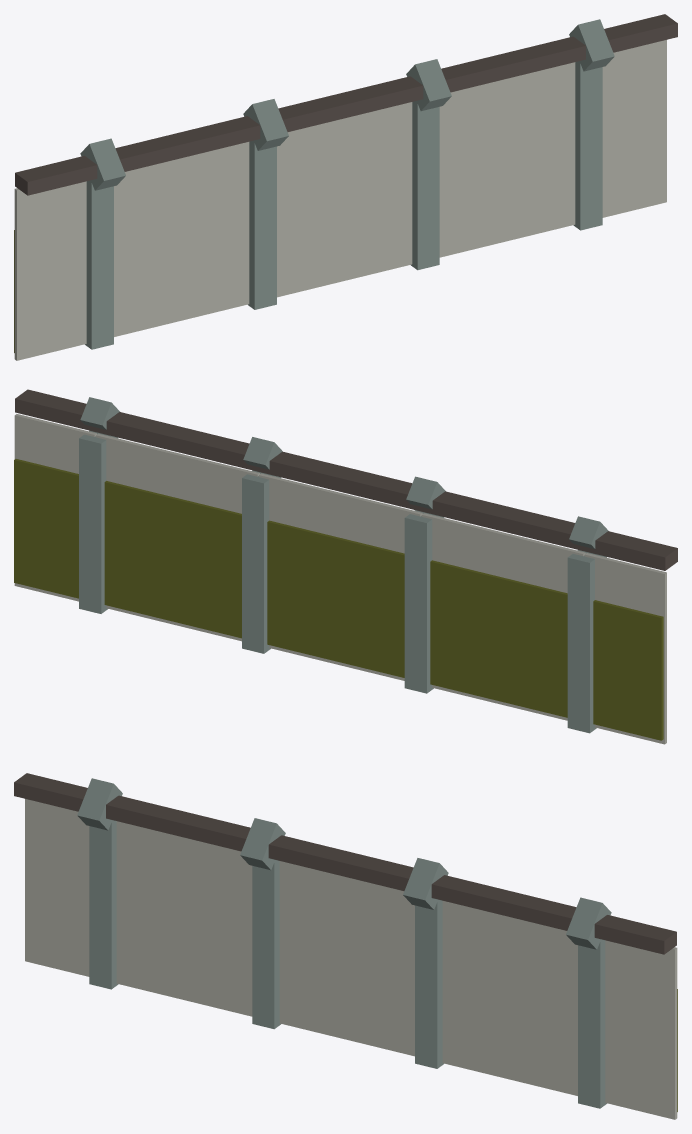
The model's file is SM_VallaBase_v3_LOD1.fbx.
The picture shows the model from 3 angles, top to bottom: view 1: azimuth 30°, elevation 25°; view 2: azimuth 150°, elevation 25°; view 3: azimuth 330°, elevation 25°; orthographic projection.
Visible parts, largest first — view 1: SM_valla_base_v3_LOD1; view 2: SM_valla_base_v3_LOD1; view 3: SM_valla_base_v3_LOD1.
Part boxes in pixels (left/top/right/bottom): SM_valla_base_v3_LOD1: left=14, top=14, right=677, bottom=360; SM_valla_base_v3_LOD1: left=14, top=389, right=677, bottom=744; SM_valla_base_v3_LOD1: left=14, top=773, right=677, bottom=1119.
Size of the model in its own units: 9.98 by 2.99 by 0.6647.
